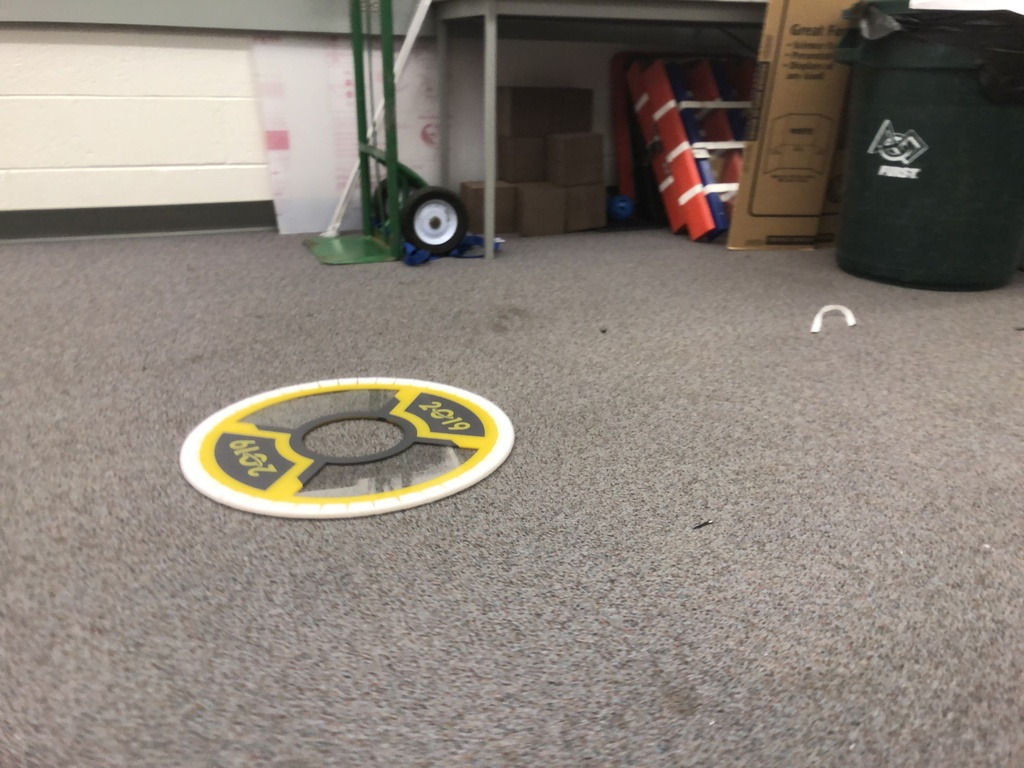hatch_panel: (164, 370, 534, 546)
